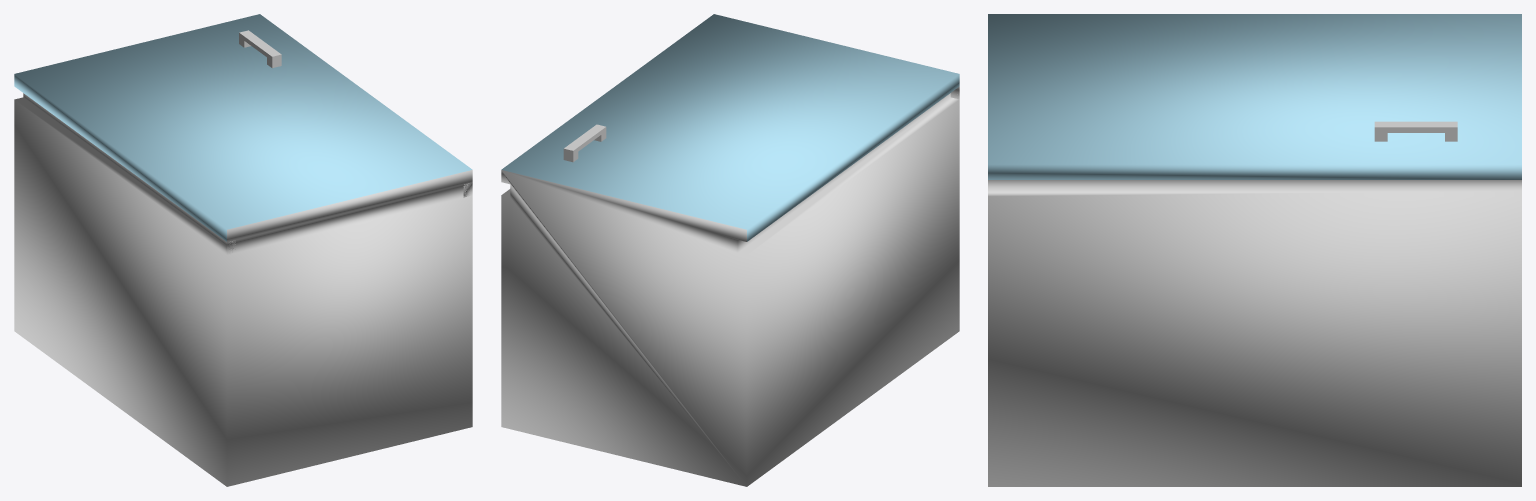
The model's file is little_closet.fbx.
3 views of the same model, side by side, from view 1: azimuth 30°, elevation 25°; view 2: azimuth 150°, elevation 25°; view 3: azimuth 270°, elevation 25° (orthographic). The views are drawn at different scales.
Visible parts, largest first — view 1: Маленький; view 2: Маленький; view 3: Маленький.
Boxes of the visible parts, <box> form: Маленький: <box>14,14,472,486</box>; Маленький: <box>501,14,959,486</box>; Маленький: <box>988,14,1521,486</box>.
Bounding box in the file's own units: 60 × 62.67 × 90.
